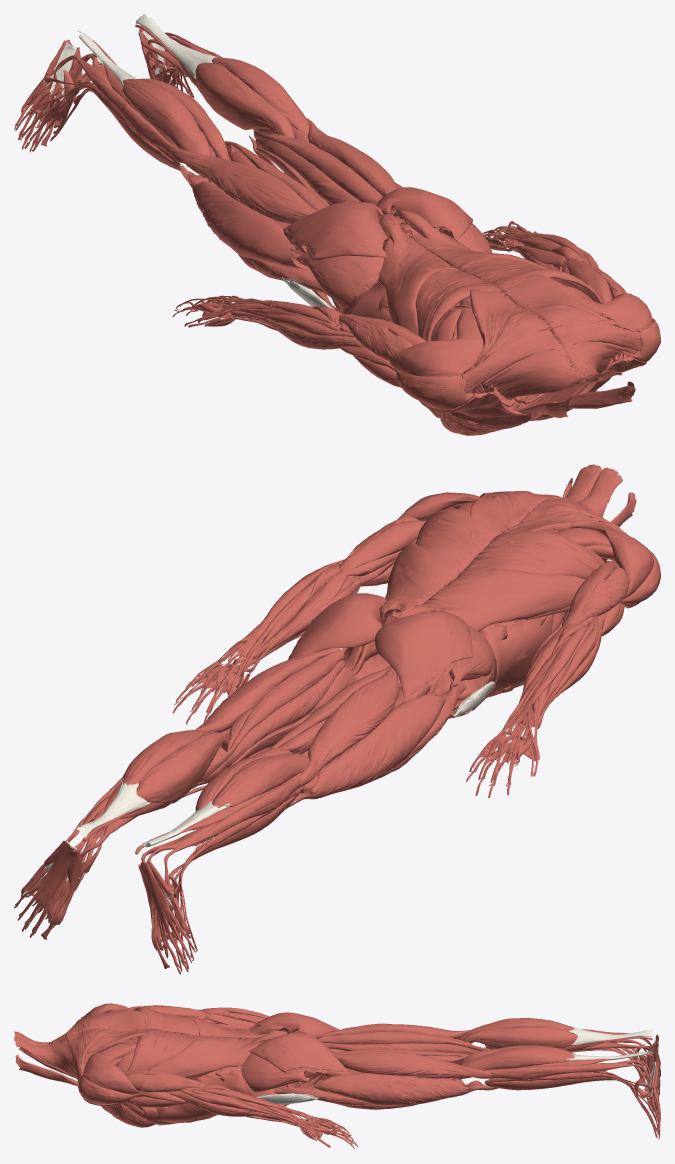
The model's file is anatomy-v3.glb.
The picture shows the model from 3 angles, top to bottom: view 1: azimuth 30°, elevation 25°; view 2: azimuth 150°, elevation 25°; view 3: azimuth 270°, elevation 25°; orthographic projection. The views are drawn at different scales.
Parts seen in each view (by area): view 1: right latissimus dorsi, right gluteus maximus, right vastus lateralis, long head of right biceps femoris, left latissimus dorsi, medial head of left gastrocnemius, descending part of right trapezius, ascending part of left trapezius, lateral head of right gastrocnemius, ascending part of right trapezius, spinal part of right deltoid, right gluteus medius (+33 smaller); view 2: right latissimus dorsi, left latissimus dorsi, right gluteus maximus, right vastus lateralis, long head of right biceps femoris, left gluteus maximus, medial head of left gastrocnemius, right external oblique, long head of left biceps femoris, lateral head of right gastrocnemius, left semimembranosus, left semitendinosus (+29 smaller); view 3: left latissimus dorsi, left vastus lateralis, left gluteus maximus, long head of left biceps femoris, medial head of right gastrocnemius, left external oblique, right latissimus dorsi, lateral head of left gastrocnemius, right semitendinosus, left gluteus medius, spinal part of left deltoid, left fibularis longus (+39 smaller).
Part boxes in pixels (<box>): right latissimus dorsi: <box>377,230,501,341</box>; right gluteus maximus: <box>283,201,389,260</box>; right vastus lateralis: <box>180,166,310,269</box>; long head of right biceps femoris: <box>169,147,317,224</box>; left latissimus dorsi: <box>400,222,601,303</box>; medial head of left gastrocnemius: <box>195,63,294,138</box>; descending part of right trapezius: <box>483,348,601,399</box>; ascending part of left trapezius: <box>477,274,623,330</box>; lateral head of right gastrocnemius: <box>122,79,210,177</box>; ascending part of right trapezius: <box>470,277,551,366</box>; spinal part of right deltoid: <box>389,337,485,376</box>; right gluteus medius: <box>297,252,384,308</box>; right latissimus dorsi: <box>399,530,601,631</box>; left latissimus dorsi: <box>385,508,500,618</box>; right gluteus maximus: <box>374,611,472,702</box>; right vastus lateralis: <box>287,694,446,807</box>; long head of right biceps femoris: <box>299,666,399,787</box>; left gluteus maximus: <box>287,593,387,660</box>; medial head of left gastrocnemius: <box>136,731,228,803</box>; right external oblique: <box>472,614,562,710</box>; long head of left biceps femoris: <box>195,648,339,732</box>; lateral head of right gastrocnemius: <box>212,753,309,807</box>; left semimembranosus: <box>200,660,346,781</box>; left semitendinosus: <box>198,649,344,782</box>; left latissimus dorsi: <box>127,1029,261,1079</box>; left vastus lateralis: <box>308,1072,496,1105</box>; left gluteus maximus: <box>249,1031,349,1077</box>; long head of left biceps femoris: <box>334,1051,491,1078</box>; medial head of right gastrocnemius: <box>462,1027,577,1048</box>; left external oblique: <box>138,1065,252,1125</box>; right latissimus dorsi: <box>133,1006,265,1037</box>; lateral head of left gastrocnemius: <box>458,1046,574,1079</box>; right semitendinosus: <box>318,1031,490,1050</box>; left gluteus medius: <box>241,1053,307,1091</box>; spinal part of left deltoid: <box>82,1052,143,1094</box>; left fibularis longus: <box>489,1064,652,1081</box>.
Size of the model in its own units: 639 by 251 by 1579.
